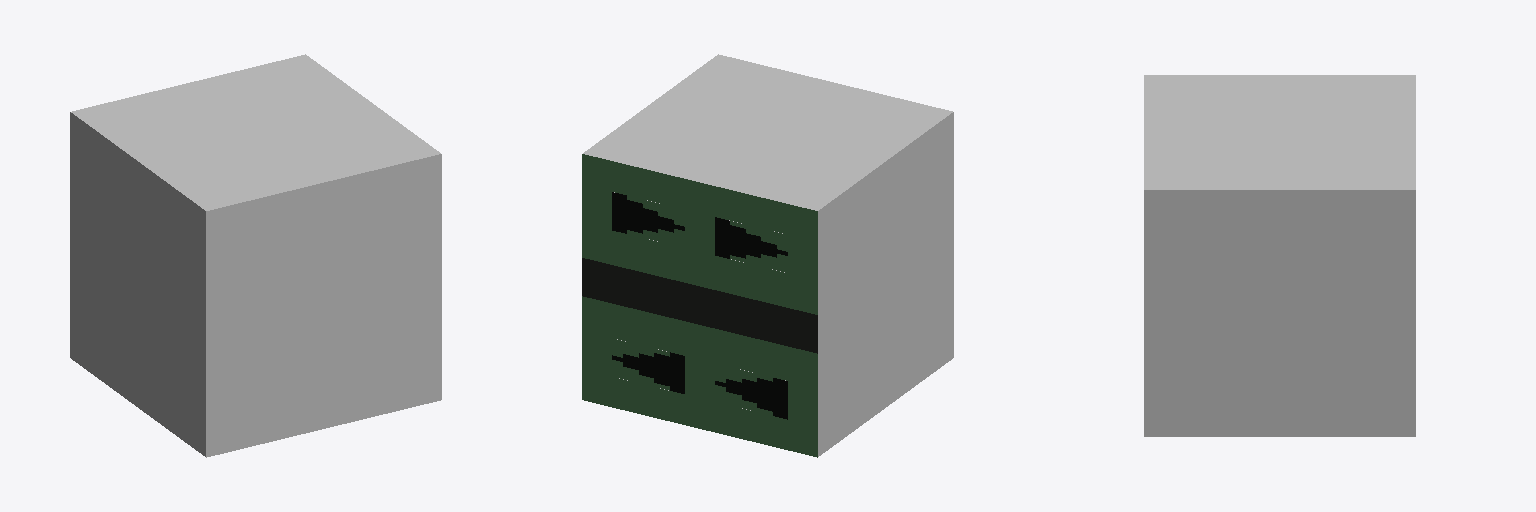
The picture shows the model from 3 angles: view 1: azimuth 30°, elevation 25°; view 2: azimuth 150°, elevation 25°; view 3: azimuth 270°, elevation 25°; orthographic projection.
Visible parts, largest first — view 1: generalCube; view 2: generalCube, topRightBlack, topLeftBlack, bottomLeftBlack, bottomRightBlack; view 3: generalCube.
Part boxes in pixels (x1,y1,x2,y2): generalCube: (70,54,441,457); generalCube: (582,54,953,457); topRightBlack: (715,217,787,272); topLeftBlack: (612,192,684,241); bottomLeftBlack: (612,339,684,393); bottomRightBlack: (715,369,787,419); generalCube: (1144,75,1415,436).
Size of the model in its own units: 1 by 1 by 1.
Materials: 9 (7 with a texture image).